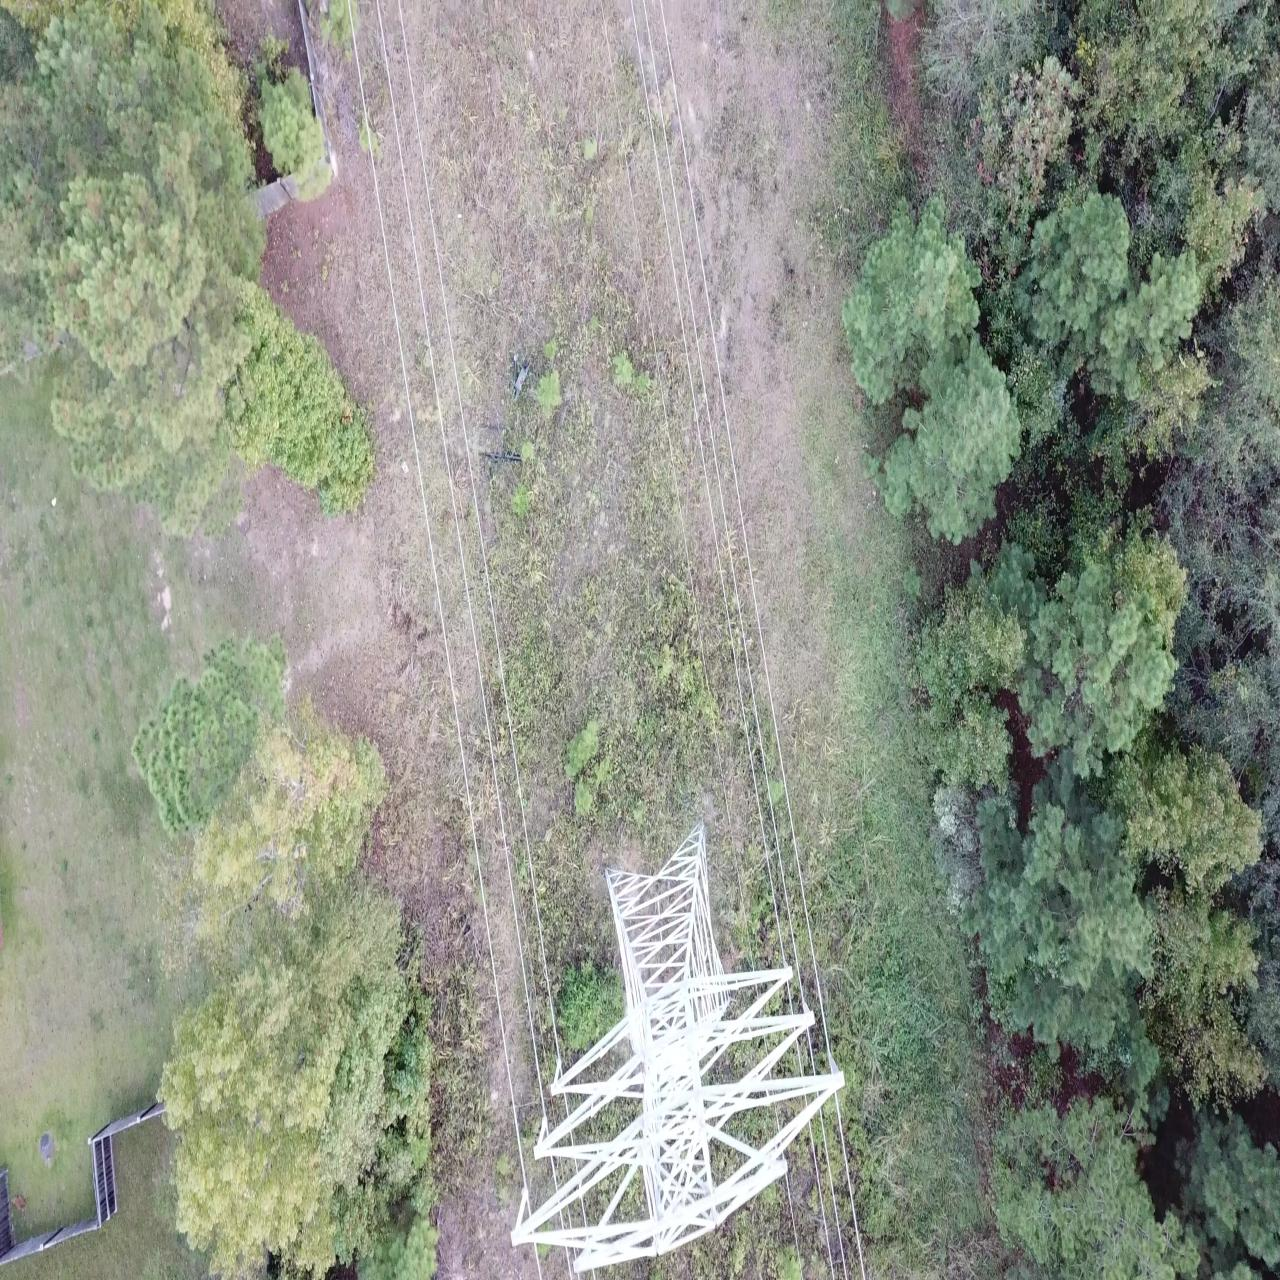cable: (347, 1, 532, 1217), (382, 0, 557, 1129), (376, 0, 546, 1116), (660, 0, 830, 1051), (397, 1, 559, 1058), (642, 0, 803, 996), (600, 0, 755, 972), (631, 1, 785, 962), (835, 1091, 865, 1279), (819, 1108, 847, 1279), (809, 1121, 835, 1279), (785, 1173, 803, 1279), (806, 1028, 816, 1075), (533, 1244, 543, 1279), (796, 1039, 803, 1075), (551, 1157, 558, 1192), (787, 981, 794, 1014), (566, 1247, 572, 1279), (559, 1157, 565, 1185), (564, 1094, 568, 1116), (574, 1159, 578, 1173), (573, 1247, 577, 1259), (592, 1269, 595, 1279), (560, 1067, 563, 1076), (760, 1009, 762, 1017), (782, 1152, 784, 1159), (578, 1273, 580, 1279)
tower_lattice: (510, 819, 846, 1274)
